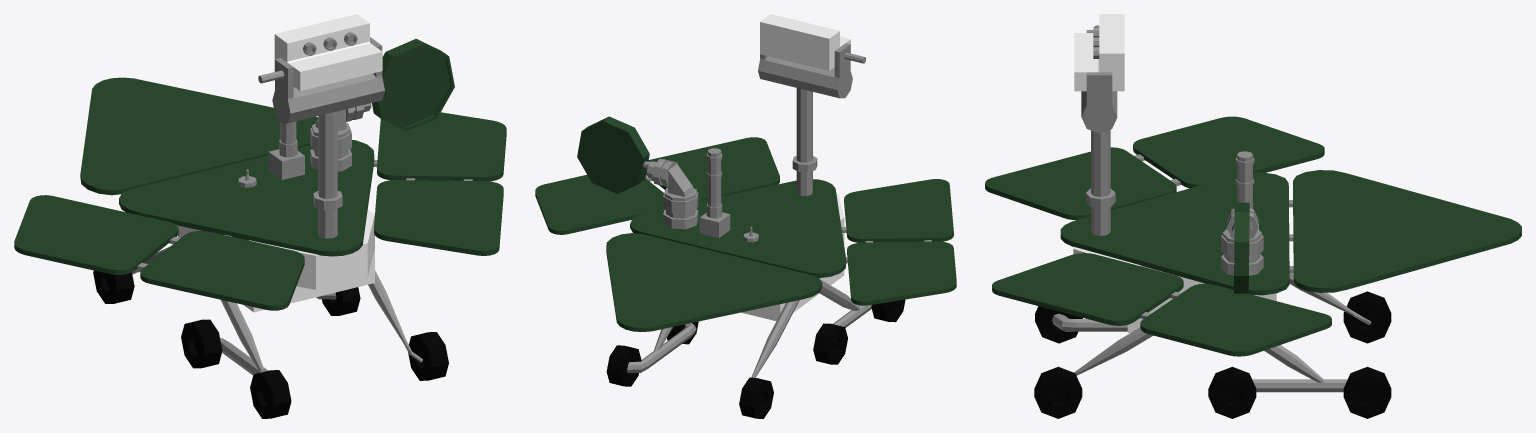
File: Rover.gltf
3 views of the same model, side by side, from view 1: azimuth 30°, elevation 25°; view 2: azimuth 150°, elevation 25°; view 3: azimuth 270°, elevation 25° (orthographic). The views are drawn at different scales.
Parts seen in each view (by area): view 1: pCube3; view 2: pCube3; view 3: pCube3.
Part boxes in pixels (<box>): pCube3: <box>14,14,506,418</box>; pCube3: <box>535,14,956,418</box>; pCube3: <box>985,14,1521,418</box>.
Size of the model in its own units: 0.1105 by 0.0752 by 0.1066.
